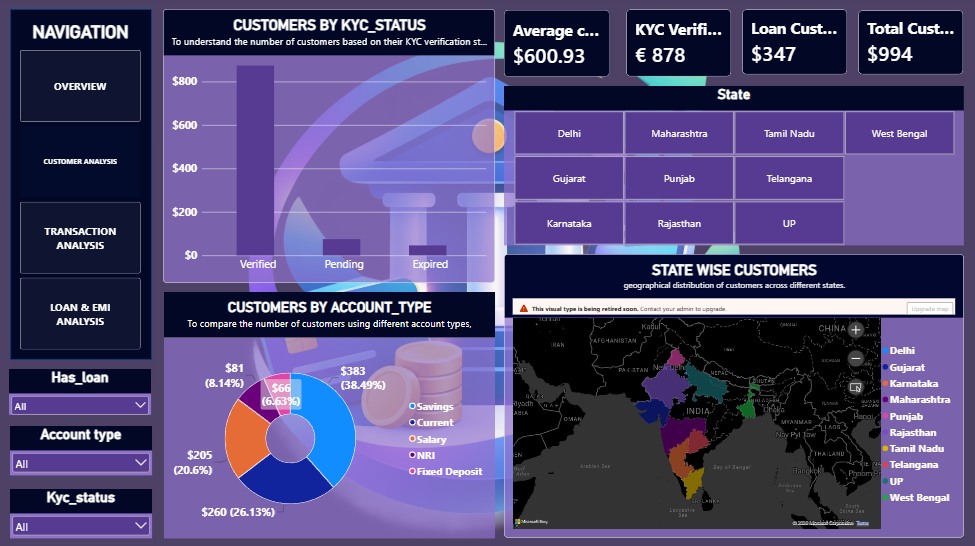

The dashboard page shown, as its layout file describes it:
{"tool":"powerbi","page":{"name":"CUSTOMER ANALYSIS","canvas":[1920,1080],"ordinal":1},"visuals":[{"type":"group","id":"g1","title":"Group 1","box":[21.6,23.8,278.6,689],"z":0},{"type":"shape","box":[21.6,23.8,278.6,689],"z":0,"group":"g1"},{"type":"cardVisual","title":"Average credit score","fields":{"Data":["Sheet1.average credit score"]},"box":[991.4,25.9,207.4,131.8],"z":1000},{"type":"cardVisual","fields":{"Data":["Sheet1.Loan Customers"]},"box":[1458,23.8,207.4,129.6],"z":2000},{"type":"cardVisual","fields":{"Data":["Sheet1.Total Customers"]},"box":[1687,25.9,207.4,127.4],"z":3000},{"type":"cardVisual","fields":{"Data":["Sheet1.KYC Verified Customers"]},"box":[1231.2,23.8,207.4,133.9],"z":4000},{"type":"lineStackedColumnComboChart","title":"CUSTOMERS BY KYC_STATUS","fields":{"Category":["Sheet1.kyc_status"],"Y":["Sheet1.Total Customers"]},"box":[321.8,23.8,652.3,537.8],"z":5000},{"type":"donutChart","title":"CUSTOMERS BY ACCOUNT_TYPE","fields":{"Category":["Sheet1.account_type"],"Y":["Sheet1.Total Customers"]},"box":[324,578.9,650.2,483.8],"z":6000},{"type":"slicer","title":"Has_loan","fields":{"Values":["Sheet1.has_loan"]},"box":[20.5,730.6,279.4,89.7],"z":8000},{"type":"slicer","title":"State","fields":{"Values":["Sheet1.state"]},"box":[991.4,175,902.9,313.2],"z":9000},{"type":"slicer","title":"Kyc_status","fields":{"Values":["Sheet1.kyc_status"]},"box":[21.6,965.5,278.6,97.2],"z":10000},{"type":"slicer","title":"Account type","fields":{"Values":["Sheet1.account_type"]},"box":[21.6,842.4,278.6,97.2],"z":11000},{"type":"filledMap","title":"STATE WISE CUSTOMERS","fields":{"Category":["Sheet1.state"],"Series":["Sheet1.state"],"Y":["Sheet1.Total Customers"]},"box":[991.4,505.4,902.9,557.3],"z":12000},{"type":"pageNavigator","title":"NAVIGATION","box":[41,49,237.6,646.5],"z":15500,"group":"g1"}]}

Visuals, with their boxes in screenshot pixels (x1, y1, x2, y2), scaled from the page's 1920x1080 canvas onto the 975x546 screenshot:
"Group 1" group: 11 12 152 360
shape: 11 12 152 360
"Average credit score" cardVisual: 503 13 609 80
cardVisual - Sheet1.Loan Customers: 740 12 846 78
cardVisual - Sheet1.Total Customers: 857 13 962 78
cardVisual - Sheet1.KYC Verified Customers: 625 12 731 80
"CUSTOMERS BY KYC_STATUS" lineStackedColumnComboChart: 163 12 495 284
"CUSTOMERS BY ACCOUNT_TYPE" donutChart: 165 293 495 537
"Has_loan" slicer: 10 369 152 415
"State" slicer: 503 88 962 247
"Kyc_status" slicer: 11 488 152 537
"Account type" slicer: 11 426 152 475
"STATE WISE CUSTOMERS" filledMap: 503 256 962 537
"NAVIGATION" pageNavigator: 21 25 141 352
